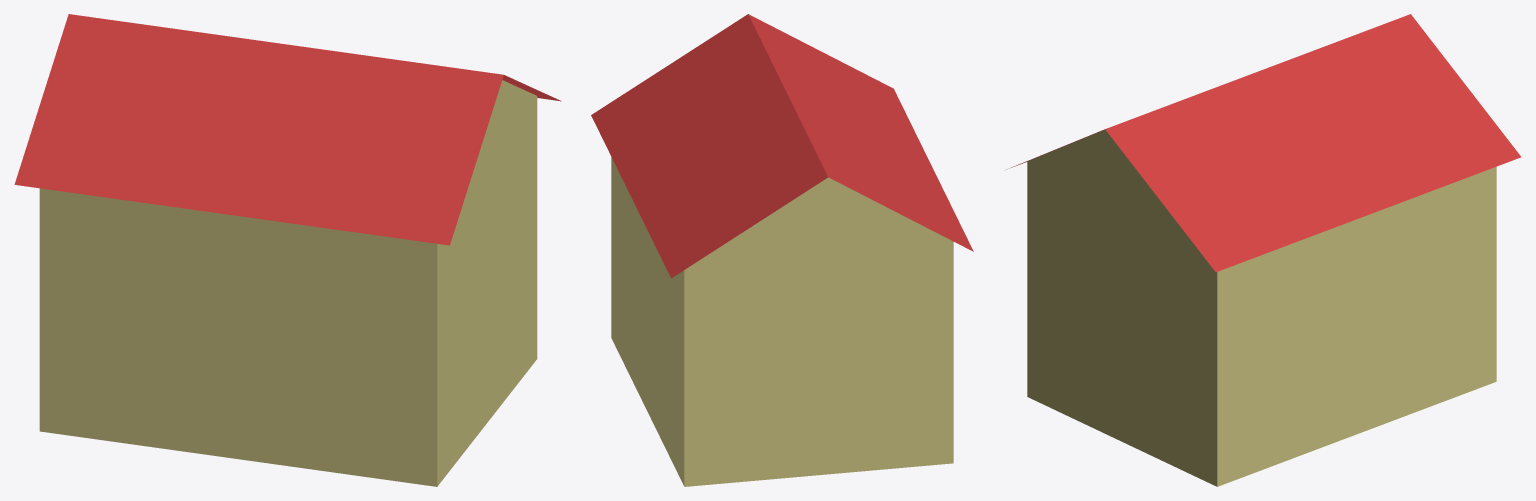
3 views of the same model, side by side, from view 1: azimuth 30°, elevation 25°; view 2: azimuth 150°, elevation 25°; view 3: azimuth 270°, elevation 25° (orthographic). The views are drawn at different scales.
Parts seen in each view (by area): view 1: group_5, group_3, group_4; view 2: group_5, group_3, group_4; view 3: group_5, group_3, group_4.
Part boxes in pixels (x1,y1,x2,y2): group_5: (39, 80, 537, 486); group_3: (17, 14, 561, 245); group_4: (14, 15, 507, 204); group_5: (611, 157, 953, 486); group_3: (611, 14, 972, 260); group_4: (591, 14, 973, 278); group_5: (1027, 129, 1496, 486); group_3: (1085, 19, 1496, 251); group_4: (1007, 14, 1521, 272).
Size of the model in its own units: 21.67 by 21.97 by 14.75.
